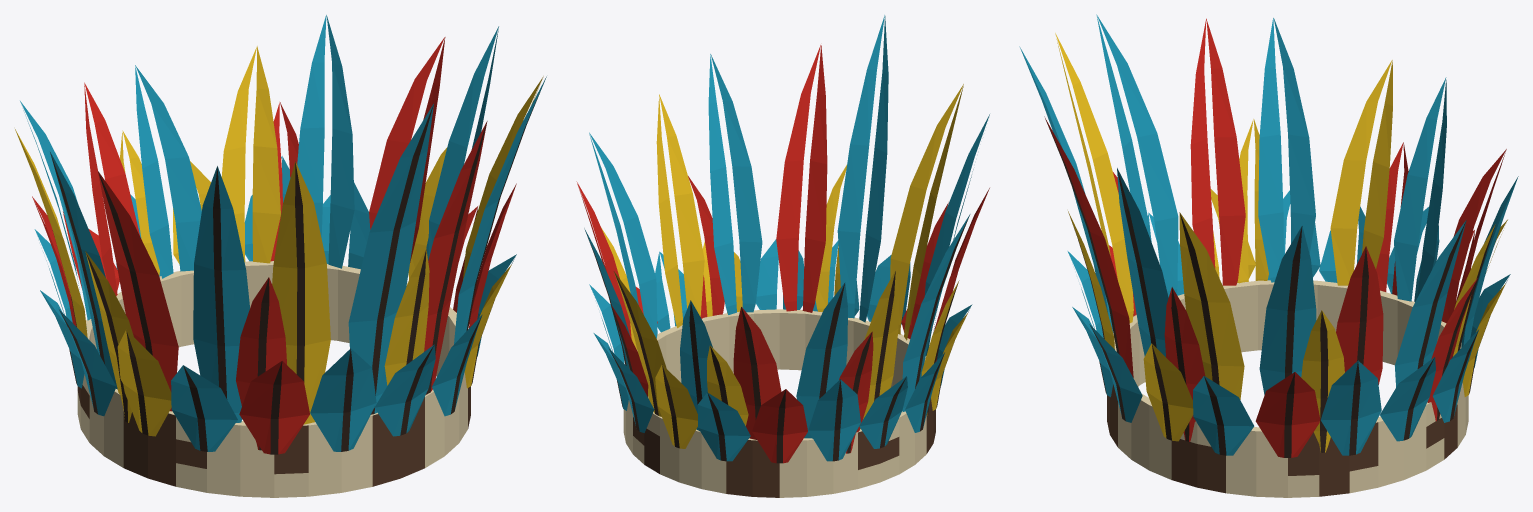
File: corona-plumas.glb
3 renders of one model, left to right at view 1: azimuth 30°, elevation 25°; view 2: azimuth 150°, elevation 25°; view 3: azimuth 270°, elevation 25°, orthographic. The views are drawn at different scales.
Parts seen in each view (by area): view 1: corona-plumas; view 2: corona-plumas; view 3: corona-plumas.
Boxes of the visible parts, x1,y1,x2,y2 form: corona-plumas: [15, 15, 546, 497]; corona-plumas: [576, 15, 989, 497]; corona-plumas: [1019, 14, 1518, 497].
Bounding box in the file's own units: 0.4101 × 0.35 × 0.4147.
